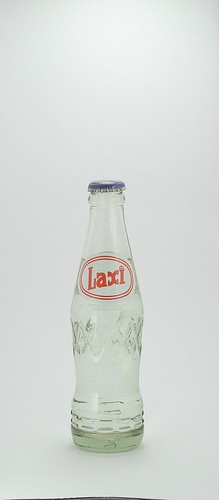emptybottle: (72, 181, 145, 455)
